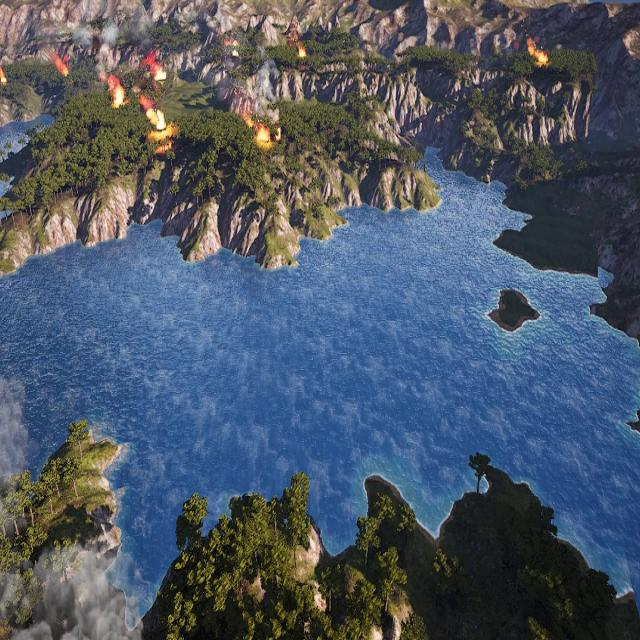fire: (529, 40, 551, 64), (146, 109, 168, 132), (111, 82, 125, 108), (257, 125, 272, 144), (56, 56, 70, 76), (153, 66, 168, 83), (224, 38, 240, 48), (276, 127, 283, 140), (299, 48, 308, 58), (233, 50, 240, 59)
smoke: (0, 540, 147, 640), (72, 1, 156, 57), (0, 372, 28, 537), (247, 53, 276, 117)
